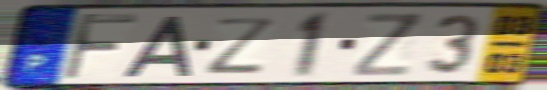1: (295, 9, 337, 82)
3: (424, 13, 481, 76)
A: (120, 14, 194, 79)
F: (59, 11, 140, 82)
Z: (350, 11, 425, 78), (205, 15, 282, 76)
